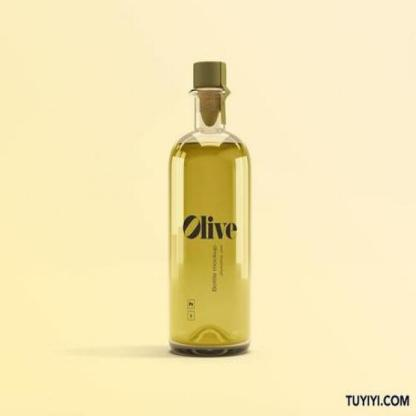Can: (168, 61, 250, 358)
